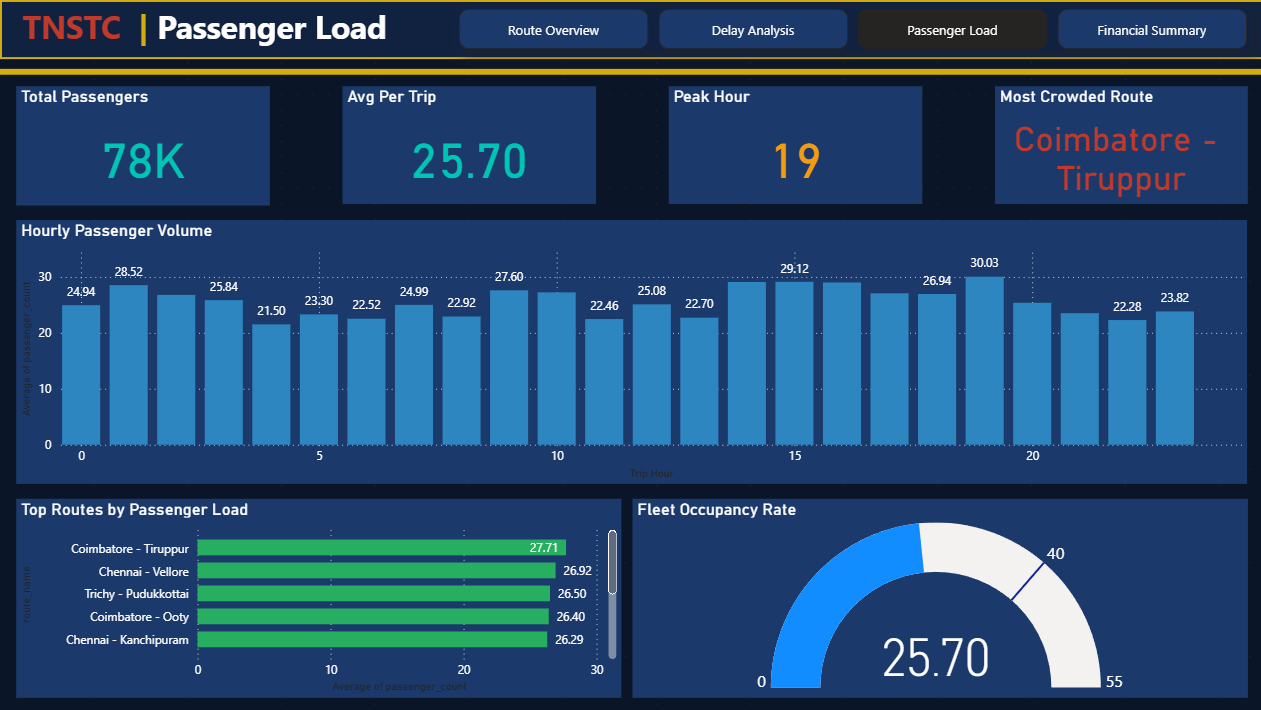

The dashboard page shown, as its layout file describes it:
{"tool":"powerbi","page":{"name":"Passenger Load","canvas":[1280,720],"ordinal":2},"visuals":[{"type":"shape","box":[0,0,1280,59.8],"z":0},{"type":"shape","box":[0,59.8,1280,26.4],"z":1000},{"type":"textbox","box":[0,0,1262.8,60.3],"z":2000},{"type":"card","title":"Total Passengers","fields":{"Values":["Sum(passenger_load.passenger_count)"]},"box":[16.9,87,257.1,120.8],"z":3000},{"type":"card","title":"Avg Per Trip","fields":{"Values":["Avg(passenger_load.passenger_count)"]},"box":[347.3,87.2,257,119.5],"z":4000},{"type":"card","title":"Peak Hour","fields":{"Values":["buses.Peak Hour"]},"box":[677.5,87.2,257,119.5],"z":5000},{"type":"card","title":"Most Crowded Route","fields":{"Values":["buses.Most Crowded Route"]},"box":[1007.8,87,255.8,119.5],"z":6000},{"type":"clusteredColumnChart","title":"Hourly Passenger Volume","fields":{"Y":["Avg(passenger_load.passenger_count)"],"Category":["trips.Trip Hour"]},"box":[16.9,223.4,1246.8,267.5],"z":7000},{"type":"clusteredBarChart","title":"Top Routes by Passenger Load","fields":{"Category":["routes.route_name"],"Y":["Avg(passenger_load.passenger_count)"]},"box":[16.9,505.2,613,201.3],"z":8000},{"type":"gauge","title":"Fleet Occupancy Rate","fields":{"Y":["Avg(passenger_load.passenger_count)"],"MaxValue":["buses.Max Capacity"],"MinValue":["buses.Min Capacity"],"TargetValue":["buses.Target Occupancy"]},"box":[640.3,505.2,623.4,201.3],"z":9000},{"type":"pageNavigator","box":[464,8.6,800,41.8],"z":10000}]}

Visuals, with their boxes in screenshot pixels (x1, y1, x2, y2), scaled from the page's 1280x720 canvas onto the 1261x710 screenshot:
shape: region(0, 0, 1260, 59)
shape: region(0, 59, 1260, 85)
textbox: region(0, 0, 1244, 59)
"Total Passengers" card: region(17, 86, 270, 205)
"Avg Per Trip" card: region(342, 86, 595, 204)
"Peak Hour" card: region(667, 86, 921, 204)
"Most Crowded Route" card: region(993, 86, 1245, 204)
"Hourly Passenger Volume" clusteredColumnChart: region(17, 220, 1245, 484)
"Top Routes by Passenger Load" clusteredBarChart: region(17, 498, 621, 697)
"Fleet Occupancy Rate" gauge: region(631, 498, 1245, 697)
pageNavigator: region(457, 8, 1245, 50)
